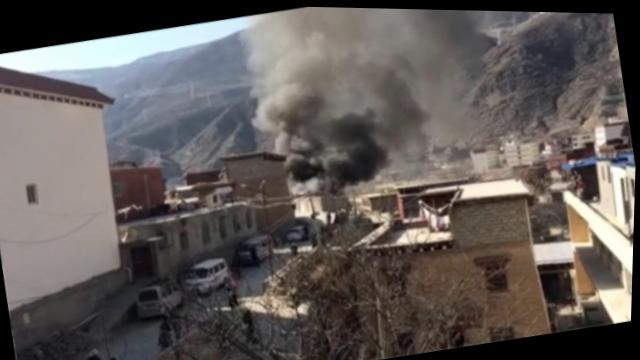smoke: (317, 6, 491, 111), (240, 5, 338, 148), (287, 132, 384, 191), (372, 92, 437, 168), (332, 100, 379, 137)
